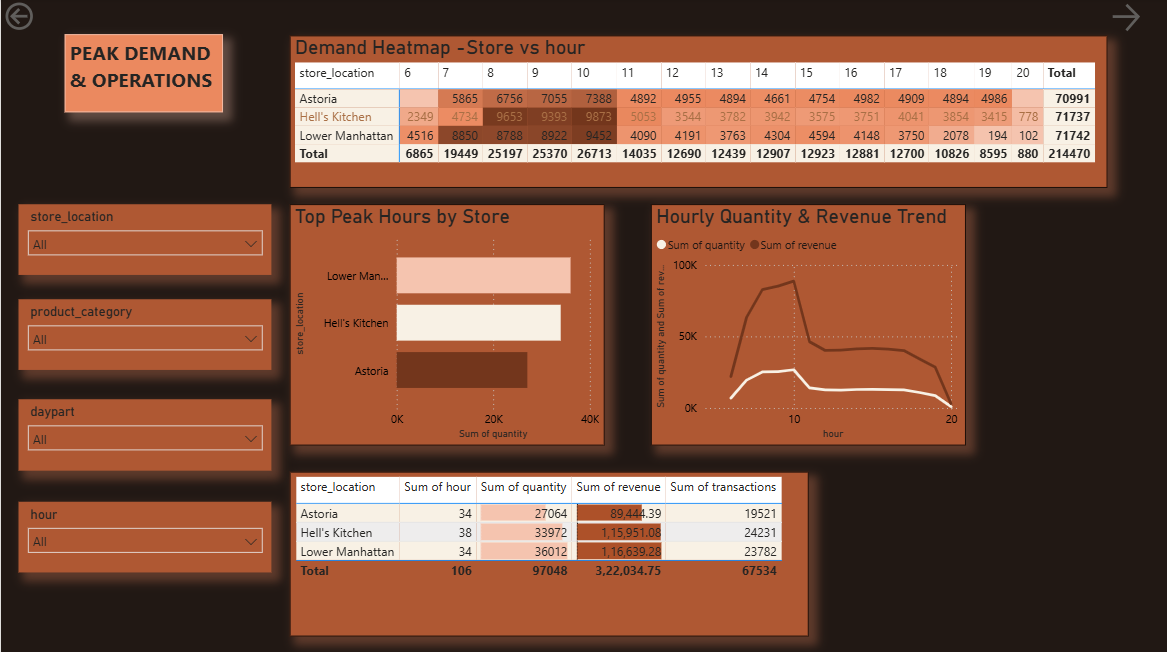

Layout of this report page (visuals, bound fields, positions):
{"tool":"powerbi","page":{"name":"PEAK DEMAND & OPERATIONS","canvas":[1280,720],"ordinal":2},"visuals":[{"type":"pivotTable","title":"Demand Heatmap -Store vs hour","fields":{"Rows":["hourly_store_demand.store_location"],"Columns":["hourly_store_demand.hour"],"Values":["Sum(hourly_store_demand.quantity)"]},"box":[316.5,41.5,897.9,167.6],"z":0},{"type":"clusteredBarChart","title":"Top Peak Hours by Store","fields":{"Category":["peak_hours.store_location"],"Y":["Sum(peak_hours.quantity)"]},"box":[317,226.4,345.8,264.8],"z":1000},{"type":"lineChart","title":"Hourly Quantity & Revenue Trend","fields":{"Category":["hourly_store_demand.hour"],"Y":["Sum(hourly_store_demand.quantity)","Sum(hourly_store_demand.revenue)"]},"box":[713.6,226.4,345.8,264.8],"z":2000},{"type":"tableEx","title":"Top Peak Hours by Store","fields":{"Values":["peak_hours.store_location","Sum(peak_hours.hour)","Sum(peak_hours.quantity)","Sum(peak_hours.revenue)","Sum(peak_hours.transactions)"]},"box":[316.5,519.8,570,180.4],"z":3000},{"type":"slicer","fields":{"Values":["transactions_clean.store_location"]},"box":[18.6,226.3,277.8,77.3],"z":4000},{"type":"slicer","fields":{"Values":["transactions_clean.product_category"]},"box":[18.6,330.8,277.8,77.3],"z":5000},{"type":"slicer","fields":{"Values":["transactions_clean.daypart"]},"box":[18.6,441.1,277.8,78.8],"z":6000},{"type":"slicer","fields":{"Values":["transactions_clean.hour"]},"box":[18.6,552.8,277.8,77.3],"z":7000},{"type":"actionButton","box":[0,0,100,40],"z":8000},{"type":"textbox","box":[70.2,40.1,173.3,85.9],"z":9000},{"type":"actionButton","box":[1214.4,1.4,65.9,40.1],"z":10000}]}

Visuals, with their boxes in screenshot pixels (x1, y1, x2, y2), scaled from the page's 1280x720 canvas onto the 1167x652 screenshot:
"Demand Heatmap -Store vs hour" pivotTable: <bbox>289, 38, 1107, 189</bbox>
"Top Peak Hours by Store" clusteredBarChart: <bbox>289, 205, 604, 445</bbox>
"Hourly Quantity & Revenue Trend" lineChart: <bbox>651, 205, 966, 445</bbox>
"Top Peak Hours by Store" tableEx: <bbox>289, 471, 808, 634</bbox>
slicer - transactions_clean.store_location: <bbox>17, 205, 270, 275</bbox>
slicer - transactions_clean.product_category: <bbox>17, 300, 270, 370</bbox>
slicer - transactions_clean.daypart: <bbox>17, 399, 270, 471</bbox>
slicer - transactions_clean.hour: <bbox>17, 501, 270, 571</bbox>
actionButton: <bbox>0, 0, 91, 36</bbox>
textbox: <bbox>64, 36, 222, 114</bbox>
actionButton: <bbox>1107, 1, 1166, 38</bbox>
